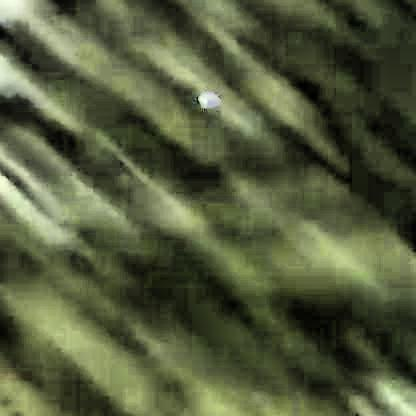golfball: (193, 93, 221, 112)
